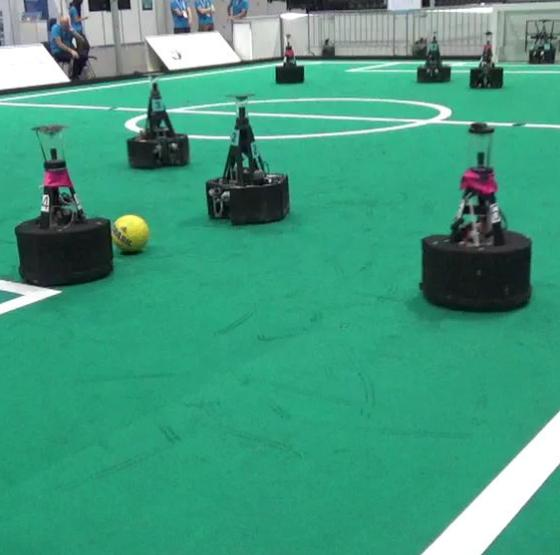robot: (416, 119, 536, 316), (11, 119, 115, 287), (201, 89, 297, 230), (120, 70, 193, 171)
